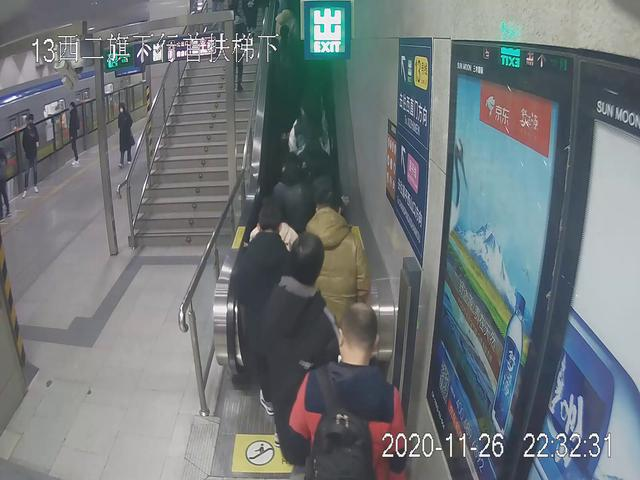person: (290, 299, 408, 475), (266, 233, 342, 457), (233, 208, 296, 411), (304, 189, 369, 354), (17, 115, 39, 197), (113, 104, 139, 167), (64, 100, 83, 169)
